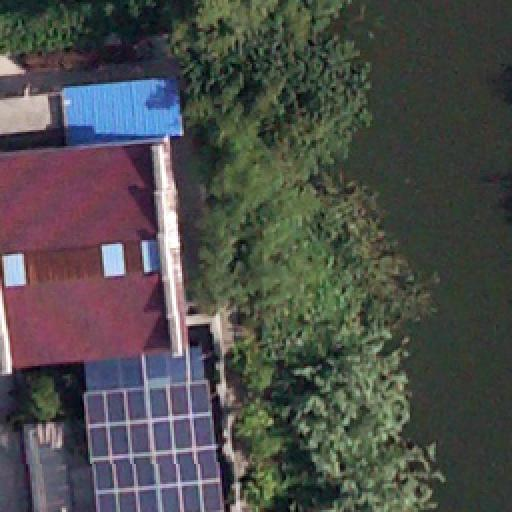solar-panel: (72, 376, 236, 512)
